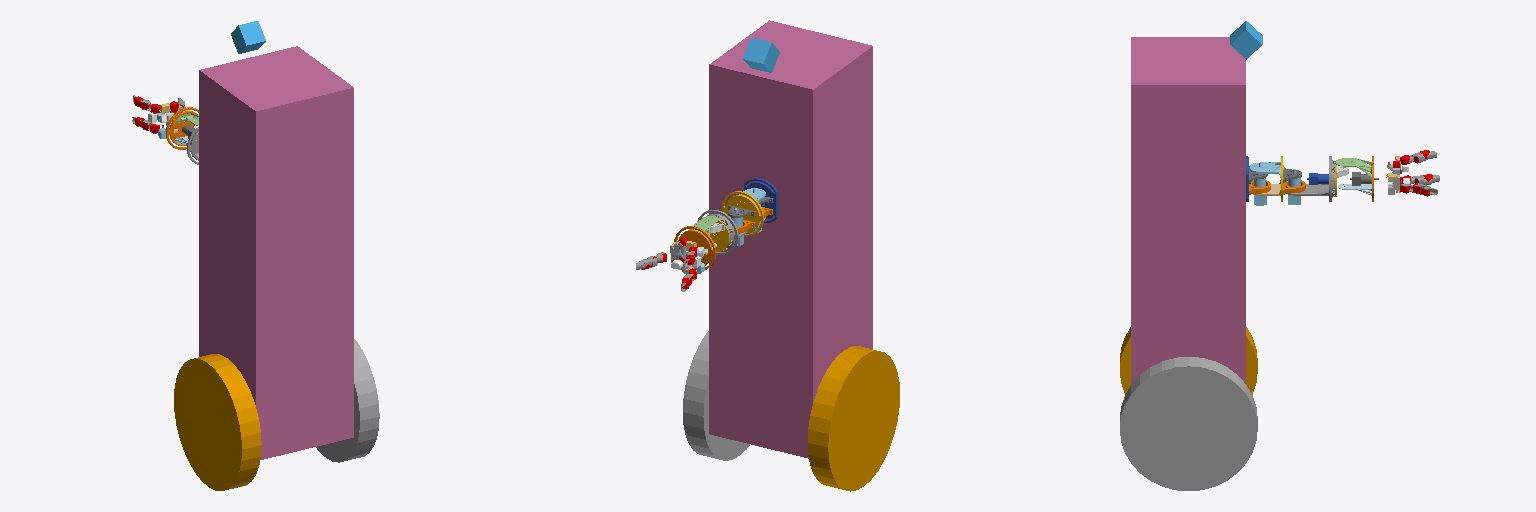
--- Render facts (derived) ---
3 views of the same robot in one strip: view 1: azimuth 30°, elevation 25°; view 2: azimuth 150°, elevation 25°; view 3: azimuth 270°, elevation 25° (orthographic).
Model arm_with_pedestal with 10 links and 9 joints (5 revolute, 3 continuous, 1 fixed), rooted at base_link, posed all joints at 0.
Visible links, largest first — view 1: base_link, left_wheel, right_wheel, main_assembly, forearm_link, camera_link; view 2: base_link, left_wheel, right_wheel, shoulder_link, main_assembly, forearm_link, camera_link, arm1_base_link; view 3: base_link, right_wheel, main_assembly, shoulder_link, left_wheel, forearm_link, arm_link, camera_link, arm1_base_link.
Boxes of the visible links, <box> form: base_link: <box>199,46,353,459</box>; left_wheel: <box>174,354,261,490</box>; right_wheel: <box>316,339,379,462</box>; main_assembly: <box>132,95,188,138</box>; forearm_link: <box>166,107,198,149</box>; camera_link: <box>231,21,265,53</box>; base_link: <box>709,20,872,458</box>; left_wheel: <box>807,346,899,491</box>; right_wheel: <box>683,331,749,460</box>; shoulder_link: <box>722,188,765,245</box>; main_assembly: <box>636,238,704,291</box>; forearm_link: <box>674,216,718,269</box>; camera_link: <box>743,38,779,72</box>; arm1_base_link: <box>744,178,777,232</box>; base_link: <box>1131,37,1245,383</box>; right_wheel: <box>1120,357,1257,490</box>; main_assembly: <box>1386,150,1439,196</box>; shoulder_link: <box>1249,156,1305,204</box>; left_wheel: <box>1120,327,1257,394</box>; forearm_link: <box>1335,156,1378,201</box>; arm_link: <box>1286,156,1335,201</box>; camera_link: <box>1230,21,1262,59</box>; arm1_base_link: <box>1246,156,1270,205</box>.
Bounding box of the posed robot: 0.7 × 1.39 × 2.07 m (x, y, z).
Meshes: 27 distinct files referenced, 73 mesh visuals loaded (26 binary STL); not drawn: 1 (reference not matched to a file when rendering).

The robot description file, URDF, robot "arm_with_pedestal":
<?xml version="1.0" ?>
<!-- =================================================================================== -->
<!-- |    This document was autogenerated by xacro from arm_with_pedestal.xacro        | -->
<!-- |    EDITING THIS FILE BY HAND IS NOT RECOMMENDED                                 | -->
<!-- =================================================================================== -->
<robot name="arm_with_pedestal">
  <link name="arm1_base_link">
    <visual>
      <origin rpy="-1.5708 1.21431e-16 3.90606e-18" xyz="3.31402e-16 -0.0195 0.06"/>
      <geometry>
        <mesh filename="package://ob1_arm_description/meshes/shoulder_y_motor.stl"/>
      </geometry>
      <material name="shoulder_y_motor_material">
        <color rgba="0.615686 0.811765 0.929412 1.0"/>
      </material>
    </visual>
    <collision>
      <origin rpy="-1.5708 1.21431e-16 3.90606e-18" xyz="3.31402e-16 -0.0195 0.06"/>
      <geometry>
        <mesh filename="package://ob1_arm_description/meshes/shoulder_y_motor.stl"/>
      </geometry>
      <material name="shoulder_y_motor_material">
        <color rgba="0.615686 0.811765 0.929412 1.0"/>
      </material>
    </collision>
    <visual>
      <origin rpy="-1.5708 1.2013e-16 2.92997e-21" xyz="1.33481e-16 -0.0195 0.06"/>
      <geometry>
        <mesh filename="package://ob1_arm_description/meshes/shoulder_plate.stl"/>
      </geometry>
      <material name="shoulder_plate_material">
        <color rgba="0.231373 0.380392 0.705882 1.0"/>
      </material>
    </visual>
    <collision>
      <origin rpy="-1.5708 1.2013e-16 2.92997e-21" xyz="1.33481e-16 -0.0195 0.06"/>
      <geometry>
        <mesh filename="package://ob1_arm_description/meshes/shoulder_plate.stl"/>
      </geometry>
      <material name="shoulder_plate_material">
        <color rgba="0.231373 0.380392 0.705882 1.0"/>
      </material>
    </collision>
    <visual>
      <origin rpy="-1.5708 1.20997e-16 7.25353e-18" xyz="3.46418e-16 -0.0195 0.06"/>
      <geometry>
        <mesh filename="package://ob1_arm_description/meshes/motor_front_support_-_shoulder.stl"/>
      </geometry>
      <material name="motor_front_support_-_shoulder_material">
        <color rgba="0.498039 0.498039 0.498039 1.0"/>
      </material>
    </visual>
    <collision>
      <origin rpy="-1.5708 1.20997e-16 7.25353e-18" xyz="3.46418e-16 -0.0195 0.06"/>
      <geometry>
        <mesh filename="package://ob1_arm_description/meshes/motor_front_support_-_shoulder.stl"/>
      </geometry>
      <material name="motor_front_support_-_shoulder_material">
        <color rgba="0.498039 0.498039 0.498039 1.0"/>
      </material>
    </collision>
    <visual>
      <origin rpy="-1.5708 1.20997e-16 7.25353e-18" xyz="-6.0185e-17 -0.0195 0.06"/>
      <geometry>
        <mesh filename="package://ob1_arm_description/meshes/motor_mid_support_-_shoulder.stl"/>
      </geometry>
      <material name="motor_mid_support_-_shoulder_material">
        <color rgba="0.972549 0.529412 0.00392157 1.0"/>
      </material>
    </visual>
    <collision>
      <origin rpy="-1.5708 1.20997e-16 7.25353e-18" xyz="-6.0185e-17 -0.0195 0.06"/>
      <geometry>
        <mesh filename="package://ob1_arm_description/meshes/motor_mid_support_-_shoulder.stl"/>
      </geometry>
      <material name="motor_mid_support_-_shoulder_material">
        <color rgba="0.972549 0.529412 0.00392157 1.0"/>
      </material>
    </collision>
    <inertial>
      <origin rpy="0 0 0" xyz="0 0 0"/>
      <mass value="0"/>
      <inertia ixx="0" ixy="0" ixz="0" iyy="0" iyz="0" izz="0"/>
    </inertial>
  </link>
  <link name="shoulder_link">
    <visual>
      <origin rpy="3.14159 3.60029e-32 -1.5708" xyz="0 0 0.067"/>
      <geometry>
        <mesh filename="package://ob1_arm_description/meshes/shoulder_linkage_-_motor.stl"/>
      </geometry>
      <material name="shoulder_linkage_-_motor_material">
        <color rgba="0.921569 0.8 0.654902 1.0"/>
      </material>
    </visual>
    <collision>
      <origin rpy="3.14159 3.60029e-32 -1.5708" xyz="0 0 0.067"/>
      <geometry>
        <mesh filename="package://ob1_arm_description/meshes/shoulder_linkage_-_motor.stl"/>
      </geometry>
      <material name="shoulder_linkage_-_motor_material">
        <color rgba="0.921569 0.8 0.654902 1.0"/>
      </material>
    </collision>
    <visual>
      <origin rpy="3.14159 7.97526e-16 -1.5708" xyz="-6.03684e-16 -1.84994e-15 0.067"/>
      <geometry>
        <mesh filename="package://ob1_arm_description/meshes/bicep_y_motor.stl"/>
      </geometry>
      <material name="bicep_y_motor_material">
        <color rgba="0.615686 0.811765 0.929412 1.0"/>
      </material>
    </visual>
    <collision>
      <origin rpy="3.14159 7.97526e-16 -1.5708" xyz="-6.03684e-16 -1.84994e-15 0.067"/>
      <geometry>
        <mesh filename="package://ob1_arm_description/meshes/bicep_y_motor.stl"/>
      </geometry>
      <material name="bicep_y_motor_material">
        <color rgba="0.615686 0.811765 0.929412 1.0"/>
      </material>
    </collision>
    <visual>
      <origin rpy="3.14159 -2.30393e-18 -1.5708" xyz="-1.31839e-16 -1.36238e-15 0.067"/>
      <geometry>
        <mesh filename="package://ob1_arm_description/meshes/motor_mid_support_-_bicep.stl"/>
      </geometry>
      <material name="motor_mid_support_-_bicep_material">
        <color rgba="0.972549 0.529412 0.00392157 1.0"/>
      </material>
    </visual>
    <collision>
      <origin rpy="3.14159 -2.30393e-18 -1.5708" xyz="-1.31839e-16 -1.36238e-15 0.067"/>
      <geometry>
        <mesh filename="package://ob1_arm_description/meshes/motor_mid_support_-_bicep.stl"/>
      </geometry>
      <material name="motor_mid_support_-_bicep_material">
        <color rgba="0.972549 0.529412 0.00392157 1.0"/>
      </material>
    </collision>
    <visual>
      <origin rpy="-3.14159 2.79702e-30 -1.5708" xyz="-7.70217e-16 -1.56706e-15 0.067"/>
      <geometry>
        <mesh filename="package://ob1_arm_description/meshes/bicep_plate_-_real.stl"/>
      </geometry>
      <material name="bicep_plate_-_real_material">
        <color rgba="0.980392 0.713725 0.00392157 1.0"/>
      </material>
    </visual>
    <collision>
      <origin rpy="-3.14159 2.79702e-30 -1.5708" xyz="-7.70217e-16 -1.56706e-15 0.067"/>
      <geometry>
        <mesh filename="package://ob1_arm_description/meshes/bicep_plate_-_real.stl"/>
      </geometry>
      <material name="bicep_plate_-_real_material">
        <color rgba="0.980392 0.713725 0.00392157 1.0"/>
      </material>
    </collision>
    <visual>
      <origin rpy="3.14159 3.86179e-16 -1.5708" xyz="-2.42861e-16 -2.01669e-15 0.067"/>
      <geometry>
        <mesh filename="package://ob1_arm_description/meshes/shoulder_linkage_-_encoder.stl"/>
      </geometry>
      <material name="shoulder_linkage_-_encoder_material">
        <color rgba="0.615686 0.811765 0.929412 1.0"/>
      </material>
    </visual>
    <collision>
      <origin rpy="3.14159 3.86179e-16 -1.5708" xyz="-2.42861e-16 -2.01669e-15 0.067"/>
      <geometry>
        <mesh filename="package://ob1_arm_description/meshes/shoulder_linkage_-_encoder.stl"/>
      </geometry>
      <material name="shoulder_linkage_-_encoder_material">
        <color rgba="0.615686 0.811765 0.929412 1.0"/>
      </material>
    </collision>
    <visual>
      <origin rpy="3.14159 2.23806e-16 -1.5708" xyz="-2.70617e-16 -1.98014e-15 0.067"/>
      <geometry>
        <mesh filename="package://ob1_arm_description/meshes/motor_front_support_-_bicep.stl"/>
      </geometry>
      <material name="motor_front_support_-_bicep_material">
        <color rgba="0.498039 0.498039 0.498039 1.0"/>
      </material>
    </visual>
    <collision>
      <origin rpy="3.14159 2.23806e-16 -1.5708" xyz="-2.70617e-16 -1.98014e-15 0.067"/>
      <geometry>
        <mesh filename="package://ob1_arm_description/meshes/motor_front_support_-_bicep.stl"/>
      </geometry>
      <material name="motor_front_support_-_bicep_material">
        <color rgba="0.498039 0.498039 0.498039 1.0"/>
      </material>
    </collision>
    <inertial>
      <origin rpy="0 0 0" xyz="0 0 0"/>
      <mass value="0"/>
      <inertia ixx="0" ixy="0" ixz="0" iyy="0" iyz="0" izz="0"/>
    </inertial>
  </link>
  <link name="arm_link">
    <visual>
      <origin rpy="3.14159 0.0295346 -7.29078e-16" xyz="0.000575841 -1.05471e-15 0.0669915"/>
      <geometry>
        <mesh filename="package://ob1_arm_description/meshes/forearm_z_motor_shaft_collar_-_9604t12_flange-mount_shaft_collar.stl"/>
      </geometry>
      <material name="forearm_z_motor_shaft_collar_-_9604t12_flange-mount_shaft_collar_material">
        <color rgba="0.498039 0.498039 0.498039 1.0"/>
      </material>
    </visual>
    <collision>
      <origin rpy="3.14159 0.0295346 -7.29078e-16" xyz="0.000575841 -1.05471e-15 0.0669915"/>
      <geometry>
        <mesh filename="package://ob1_arm_description/meshes/forearm_z_motor_shaft_collar_-_9604t12_flange-mount_shaft_collar.stl"/>
      </geometry>
      <material name="forearm_z_motor_shaft_collar_-_9604t12_flange-mount_shaft_collar_material">
        <color rgba="0.498039 0.498039 0.498039 1.0"/>
      </material>
    </collision>
    <visual>
      <origin rpy="3.14159 -4.40079e-18 -5.04871e-29" xyz="-9.25466e-16 1.55431e-15 0.067"/>
      <geometry>
        <mesh filename="package://ob1_arm_description/meshes/bicep_z_motor.stl"/>
      </geometry>
      <material name="bicep_z_motor_material">
        <color rgba="0.231373 0.380392 0.705882 1.0"/>
      </material>
    </visual>
    <collision>
      <origin rpy="3.14159 -4.40079e-18 -5.04871e-29" xyz="-9.25466e-16 1.55431e-15 0.067"/>
      <geometry>
        <mesh filename="package://ob1_arm_description/meshes/bicep_z_motor.stl"/>
      </geometry>
      <material name="bicep_z_motor_material">
        <color rgba="0.231373 0.380392 0.705882 1.0"/>
      </material>
    </collision>
    <visual>
      <origin rpy="3.14159 -2.72597e-18 4.33681e-19" xyz="-9.99424e-16 -1.66533e-16 0.067"/>
      <geometry>
        <mesh filename="package://ob1_arm_description/meshes/bicep_linkage_-_encoder.stl"/>
      </geometry>
      <material name="bicep_linkage_-_encoder_material">
        <color rgba="0.768627 0.886275 0.952941 1.0"/>
      </material>
    </visual>
    <collision>
      <origin rpy="3.14159 -2.72597e-18 4.33681e-19" xyz="-9.99424e-16 -1.66533e-16 0.067"/>
      <geometry>
        <mesh filename="package://ob1_arm_description/meshes/bicep_linkage_-_encoder.stl"/>
      </geometry>
      <material name="bicep_linkage_-_encoder_material">
        <color rgba="0.768627 0.886275 0.952941 1.0"/>
      </material>
    </collision>
    <visual>
      <origin rpy="3.14159 4.93271e-31 0" xyz="7.88861e-30 2.77556e-17 0.067"/>
      <geometry>
        <mesh filename="package://ob1_arm_description/meshes/bicep_linkage_-_motor.stl"/>
      </geometry>
      <material name="bicep_linkage_-_motor_material">
        <color rgba="0.647059 0.647059 0.647059 1.0"/>
      </material>
    </visual>
    <collision>
      <origin rpy="3.14159 4.93271e-31 0" xyz="7.88861e-30 2.77556e-17 0.067"/>
      <geometry>
        <mesh filename="package://ob1_arm_description/meshes/bicep_linkage_-_motor.stl"/>
      </geometry>
      <material name="bicep_linkage_-_motor_material">
        <color rgba="0.647059 0.647059 0.647059 1.0"/>
      </material>
    </collision>
    <visual>
      <origin rpy="3.14159 -3.17094e-18 -2.52435e-29" xyz="-8.25064e-16 1.05471e-15 0.067"/>
      <geometry>
        <mesh filename="package://ob1_arm_description/meshes/forearm_plate.stl"/>
      </geometry>
      <material name="forearm_plate_material">
        <color rgba="0.647059 0.647059 0.647059 1.0"/>
      </material>
    </visual>
    <collision>
      <origin rpy="3.14159 -3.17094e-18 -2.52435e-29" xyz="-8.25064e-16 1.05471e-15 0.067"/>
      <geometry>
        <mesh filename="package://ob1_arm_description/meshes/forearm_plate.stl"/>
      </geometry>
      <material name="forearm_plate_material">
        <color rgba="0.647059 0.647059 0.647059 1.0"/>
      </material>
    </collision>
    <inertial>
      <origin rpy="0 0 0" xyz="0 0 0"/>
      <mass value="0"/>
      <inertia ixx="0" ixy="0" ixz="0" iyy="0" iyz="0" izz="0"/>
    </inertial>
  </link>
  <link name="elbow_link">
    <visual>
      <origin rpy="1.5708 2.52435e-29 -3.46945e-18" xyz="-4.05204e-16 0.0195 0.18"/>
      <geometry>
        <mesh filename="package://ob1_arm_description/meshes/forearm_motor_support.stl"/>
      </geometry>
      <material name="forearm_motor_support_material">
        <color rgba="0.917647 0.917647 0.917647 1.0"/>
      </material>
    </visual>
    <collision>
      <origin rpy="1.5708 2.52435e-29 -3.46945e-18" xyz="-4.05204e-16 0.0195 0.18"/>
      <geometry>
        <mesh filename="package://ob1_arm_description/meshes/forearm_motor_support.stl"/>
      </geometry>
      <material name="forearm_motor_support_material">
        <color rgba="0.917647 0.917647 0.917647 1.0"/>
      </material>
    </collision>
    <visual>
      <origin rpy="1.5708 2.52435e-29 3.23731e-28" xyz="-1.25056e-17 0.0195 0.18"/>
      <geometry>
        <mesh filename="package://ob1_arm_description/meshes/forearm_intermediate_plate.stl"/>
      </geometry>
      <material name="forearm_intermediate_plate_material">
        <color rgba="0.980392 0.713725 0.00392157 1.0"/>
      </material>
    </visual>
    <collision>
      <origin rpy="1.5708 2.52435e-29 3.23731e-28" xyz="-1.25056e-17 0.0195 0.18"/>
      <geometry>
        <mesh filename="package://ob1_arm_description/meshes/forearm_intermediate_plate.stl"/>
      </geometry>
      <material name="forearm_intermediate_plate_material">
        <color rgba="0.980392 0.713725 0.00392157 1.0"/>
      </material>
    </collision>
    <visual>
      <origin rpy="1.5708 2.52435e-29 -6.93889e-18" xyz="-6.05219e-16 0.05285 -0.03115"/>
      <geometry>
        <mesh filename="package://ob1_arm_description/meshes/part_1.stl"/>
      </geometry>
      <material name="part_1_material">
        <color rgba="0.615686 0.811765 0.929412 1.0"/>
      </material>
    </visual>
    <collision>
      <origin rpy="1.5708 2.52435e-29 -6.93889e-18" xyz="-6.05219e-16 0.05285 -0.03115"/>
      <geometry>
        <mesh filename="package://ob1_arm_description/meshes/part_1.stl"/>
      </geometry>
      <material name="part_1_material">
        <color rgba="0.615686 0.811765 0.929412 1.0"/>
      </material>
    </collision>
    <inertial>
      <origin rpy="0 0 0" xyz="0 0 0"/>
      <mass value="0"/>
      <inertia ixx="0" ixy="0" ixz="0" iyy="0" iyz="0" izz="0"/>
    </inertial>
  </link>
  <link name="forearm_link">
    <visual>
      <origin rpy="7.88861e-31 -6.93889e-18 4.33681e-19" xyz="-5.02684e-16 0.21115 0.06335"/>
      <geometry>
        <mesh filename="package://ob1_arm_description/meshes/end_effector_plate.stl"/>
      </geometry>
      <material name="end_effector_plate_material">
        <color rgba="0.972549 0.529412 0.00392157 1.0"/>
      </material>
    </visual>
    <collision>
      <origin rpy="7.88861e-31 -6.93889e-18 4.33681e-19" xyz="-5.02684e-16 0.21115 0.06335"/>
      <geometry>
        <mesh filename="package://ob1_arm_description/meshes/end_effector_plate.stl"/>
      </geometry>
      <material name="end_effector_plate_material">
        <color rgba="0.972549 0.529412 0.00392157 1.0"/>
      </material>
    </collision>
    <visual>
      <origin rpy="3.15544e-30 1.08247e-15 3.90313e-18" xyz="-2.79121e-16 0.21115 0.06335"/>
      <geometry>
        <mesh filename="package://ob1_arm_description/meshes/forearm_linkage_-_encoder.stl"/>
      </geometry>
      <material name="forearm_linkage_-_encoder_material">
        <color rgba="0.768627 0.886275 0.952941 1.0"/>
      </material>
    </visual>
    <collision>
      <origin rpy="3.15544e-30 1.08247e-15 3.90313e-18" xyz="-2.79121e-16 0.21115 0.06335"/>
      <geometry>
        <mesh filename="package://ob1_arm_description/meshes/forearm_linkage_-_encoder.stl"/>
      </geometry>
      <material name="forearm_linkage_-_encoder_material">
        <color rgba="0.768627 0.886275 0.952941 1.0"/>
      </material>
    </collision>
    <visual>
      <origin rpy="7.88861e-31 -3.46945e-18 2.52435e-29" xyz="-1.00221e-17 0.21115 0.06335"/>
      <geometry>
        <mesh filename="package://ob1_arm_description/meshes/forearm_linkage_-_motor.stl"/>
      </geometry>
      <material name="forearm_linkage_-_motor_material">
        <color rgba="0.654902 0.823529 0.576471 1.0"/>
      </material>
    </visual>
    <collision>
      <origin rpy="7.88861e-31 -3.46945e-18 2.52435e-29" xyz="-1.00221e-17 0.21115 0.06335"/>
      <geometry>
        <mesh filename="package://ob1_arm_description/meshes/forearm_linkage_-_motor.stl"/>
      </geometry>
      <material name="forearm_linkage_-_motor_material">
        <color rgba="0.654902 0.823529 0.576471 1.0"/>
      </material>
    </collision>
    <visual>
      <origin rpy="1.57772e-30 1.07553e-15 3.90313e-18" xyz="-5.17754e-16 0.21115 0.06335"/>
      <geometry>
        <mesh filename="package://ob1_arm_description/meshes/wrist_z_motor.stl"/>
      </geometry>
      <material name="wrist_z_motor_material">
        <color rgba="0.498039 0.498039 0.498039 1.0"/>
      </material>
    </visual>
    <collision>
      <origin rpy="1.57772e-30 1.07553e-15 3.90313e-18" xyz="-5.17754e-16 0.21115 0.06335"/>
      <geometry>
        <mesh filename="package://ob1_arm_description/meshes/wrist_z_motor.stl"/>
      </geometry>
      <material name="wrist_z_motor_material">
        <color rgba="0.498039 0.498039 0.498039 1.0"/>
      </material>
    </collision>
    <inertial>
      <origin rpy="0 0 0" xyz="0 0 0"/>
      <mass value="0"/>
      <inertia ixx="0" ixy="0" ixz="0" iyy="0" iyz="0" izz="0"/>
    </inertial>
  </link>
  <link name="main_assembly">
    <visual>
      <origin rpy="-1.45249 0.81946 0.0866409" xyz="-0.0645733 -0.0670487 0.129369"/>
      <geometry>
        <mesh filename="package://ob1_arm_description/meshes/part_1.stl"/>
      </geometry>
      <material name="part_1_material">
        <color rgba="1 0 0 1.0"/>
      </material>
    </visual>
    <collision>
      <origin rpy="-1.45249 0.81946 0.0866409" xyz="-0.0645733 -0.0670487 0.129369"/>
      <geometry>
        <mesh filename="package://ob1_arm_description/meshes/part_1.stl"/>
      </geometry>
      <material name="part_1_material">
        <color rgba="1 0 0 1.0"/>
      </material>
    </collision>
    <visual>
      <origin rpy="-1.60498 1.07372 -0.0300488" xyz="-0.0793646 0.0346641 0.226122"/>
      <geometry>
        <mesh filename="package://ob1_arm_description/meshes/part_1.stl"/>
      </geometry>
      <material name="part_1_material">
        <color rgba="1 0 0 1.0"/>
      </material>
    </visual>
    <collision>
      <origin rpy="-1.60498 1.07372 -0.0300488" xyz="-0.0793646 0.0346641 0.226122"/>
      <geometry>
        <mesh filename="package://ob1_arm_description/meshes/part_1.stl"/>
      </geometry>
      <material name="part_1_material">
        <color rgba="1 0 0 1.0"/>
      </material>
    </collision>
    <visual>
      <origin rpy="-1.45249 0.81946 0.0866409" xyz="-0.0645733 -0.0670487 0.129369"/>
      <geometry>
        <mesh filename="package://ob1_arm_description/meshes/part_2.stl"/>
      </geometry>
      <material name="part_2_material">
        <color rgba="0.647059 0.647059 0.647059 1.0"/>
      </material>
    </visual>
    <collision>
      <origin rpy="-1.45249 0.81946 0.0866409" xyz="-0.0645733 -0.0670487 0.129369"/>
      <geometry>
        <mesh filename="package://ob1_arm_description/meshes/part_2.stl"/>
      </geometry>
      <material name="part_2_material">
        <color rgba="0.647059 0.647059 0.647059 1.0"/>
      </material>
    </collision>
    <visual>
      <origin rpy="-2.11035e-16 -0.0162981 -1.5708" xyz="-0.0185543 0.0183829 0.0681824"/>
      <geometry>
        <mesh filename="package://ob1_arm_description/meshes/part_1.stl"/>
      </geometry>
      <material name="part_1_material">
        <color rgba="1 0 0 1.0"/>
      </material>
    </visual>
    <collision>
      <origin rpy="-2.11035e-16 -0.0162981 -1.5708" xyz="-0.0185543 0.0183829 0.0681824"/>
      <geometry>
        <mesh filename="package://ob1_arm_description/meshes/part_1.stl"/>
      </geometry>
      <material name="part_1_material">
        <color rgba="1 0 0 1.0"/>
      </material>
    </collision>
    <visual>
      <origin rpy="-1.5708 0.989151 -3.14159" xyz="0.0988562 0.014795 0.216292"/>
      <geometry>
        <mesh filename="package://ob1_arm_description/meshes/part_1.stl"/>
      </geometry>
      <material name="part_1_material">
        <color rgba="1 0 0 1.0"/>
      </material>
    </visual>
    <collision>
      <origin rpy="-1.5708 0.989151 -3.14159" xyz="0.0988562 0.014795 0.216292"/>
      <geometry>
        <mesh filename="package://ob1_arm_description/meshes/part_1.stl"/>
      </geometry>
      <material name="part_1_material">
        <color rgba="1 0 0 1.0"/>
      </material>
    </collision>
    <visual>
      <origin rpy="-1.60498 1.07372 -0.0300488" xyz="-0.0793646 0.0346641 0.226122"/>
      <geometry>
        <mesh filename="package://ob1_arm_description/meshes/part_2.stl"/>
      </geometry>
      <material name="part_2_material">
        <color rgba="0.647059 0.647059 0.647059 1.0"/>
      </material>
    </visual>
    <collision>
      <origin rpy="-1.60498 1.07372 -0.0300488" xyz="-0.0793646 0.0346641 0.226122"/>
      <geometry>
        <mesh filename="package://ob1_arm_description/meshes/part_2.stl"/>
      </geometry>
      <material name="part_2_material">
        <color rgba="0.647059 0.647059 0.647059 1.0"/>
      </material>
    </collision>
    <visual>
      <origin rpy="-1.42635 0.976747 0.119958" xyz="-0.0830985 -0.0669066 0.183302"/>
      <geometry>
        <mesh filename="package://ob1_arm_description/meshes/part_4.stl"/>
      </geometry>
      <material name="part_4_material">
        <color rgba="0.647059 0.647059 0.647059 1.0"/>
      </material>
    </visual>
    <collision>
      <origin rpy="-1.42635 0.976747 0.119958" xyz="-0.0830985 -0.0669066 0.183302"/>
      <geometry>
        <mesh filename="package://ob1_arm_description/meshes/part_4.stl"/>
      </geometry>
      <material name="part_4_material">
        <color rgba="0.647059 0.647059 0.647059 1.0"/>
      </material>
    </collision>
    <visual>
      <origin rpy="-1.42635 0.976747 0.119958" xyz="-0.0830985 -0.0669066 0.183302"/>
      <geometry>
        <mesh filename="package://ob1_arm_description/meshes/part_2.stl"/>
      </geometry>
      <material name="part_2_material">
        <color rgba="0.647059 0.647059 0.647059 1.0"/>
      </material>
    </visual>
    <collision>
      <origin rpy="-1.42635 0.976747 0.119958" xyz="-0.0830985 -0.0669066 0.183302"/>
      <geometry>
        <mesh filename="package://ob1_arm_description/meshes/part_2.stl"/>
      </geometry>
      <material name="part_2_material">
        <color rgba="0.647059 0.647059 0.647059 1.0"/>
      </material>
    </collision>
    <visual>
      <origin rpy="-6.72446e-29 -0.721528 1.5708" xyz="0.0086322 0.03835 0.066"/>
      <geometry>
        <mesh filename="package://ob1_arm_description/meshes/535198.stl"/>
      </geometry>
      <material name="535198_material">
        <color rgba="0.498039 0.498039 0.498039 1.0"/>
      </material>
    </visual>
    <collision>
      <origin rpy="-6.72446e-29 -0.721528 1.5708" xyz="0.0086322 0.03835 0.066"/>
      <geometry>
        <mesh filename="package://ob1_arm_description/meshes/535198.stl"/>
      </geometry>
      <material name="535198_material">
        <color rgba="0.498039 0.498039 0.498039 1.0"/>
      </material>
    </collision>
    <visual>
      <origin rpy="-1.42635 0.976747 0.119958" xyz="-0.0830985 -0.0669066 0.183302"/>
      <geometry>
        <mesh filename="package://ob1_arm_description/meshes/part_3.stl"/>
      </geometry>
      <material name="part_3_material">
        <color rgba="0.647059 0.647059 0.647059 1.0"/>
      </material>
    </visual>
    <collision>
      <origin rpy="-1.42635 0.976747 0.119958" xyz="-0.0830985 -0.0669066 0.183302"/>
      <geometry>
        <mesh filename="package://ob1_arm_description/meshes/part_3.stl"/>
      </geometry>
      <material name="part_3_material">
        <color rgba="0.647059 0.647059 0.647059 1.0"/>
      </material>
    </collision>
    <visual>
      <origin rpy="-2.20158e-16 -0.0162981 -1.5708" xyz="-0.0185543 0.0183829 0.0681824"/>
      <geometry>
        <mesh filename="package://ob1_arm_description/meshes/part_2.stl"/>
      </geometry>
      <material name="part_2_material">
        <color rgba="0.647059 0.647059 0.647059 1.0"/>
      </material>
    </visual>
    <collision>
      <origin rpy="-2.20158e-16 -0.0162981 -1.5708" xyz="-0.0185543 0.0183829 0.0681824"/>
      <geometry>
        <mesh filename="package://ob1_arm_description/meshes/part_2.stl"/>
      </geometry>
      <material name="part_2_material">
        <color rgba="0.647059 0.647059 0.647059 1.0"/>
      </material>
    </collision>
    <visual>
      <origin rpy="-3.66048e-16 0.00035012 -1.5708" xyz="-0.0374924 -0.01435 0.066"/>
      <geometry>
        <mesh filename="package://ob1_arm_description/meshes/part_1.stl"/>
      </geometry>
      <material name="part_1_material">
        <color rgba="0.956863 0.956863 0.956863 1.0"/>
      </material>
    </visual>
    <collision>
      <origin rpy="-3.66048e-16 0.00035012 -1.5708" xyz="-0.0374924 -0.01435 0.066"/>
      <geometry>
        <mesh filename="package://ob1_arm_description/meshes/part_1.stl"/>
      </geometry>
      <material name="part_1_material">
        <color rgba="0.956863 0.956863 0.956863 1.0"/>
      </material>
    </collision>
    <visual>
      <origin rpy="-1.42635 0.976747 0.119958" xyz="-0.0830985 -0.0669066 0.183302"/>
      <geometry>
        <mesh filename="package://ob1_arm_description/meshes/part_1.stl"/>
      </geometry>
      <material name="part_1_material">
        <color rgba="1 0 0 1.0"/>
      </material>
    </visual>
    <collision>
      <origin rpy="-1.42635 0.976747 0.119958" xyz="-0.0830985 -0.0669066 0.183302"/>
      <geometry>
        <mesh filename="package://ob1_arm_description/meshes/part_1.stl"/>
      </geometry>
      <material name="part_1_material">
        <color rgba="1 0 0 1.0"/>
      </material>
    </collision>
    <visual>
      <origin rpy="-3.14159 -0.620674 1.5708" xyz="-0.0652464 -0.01435 0.066"/>
      <geometry>
        <mesh filename="package://ob1_arm_description/meshes/535198.stl"/>
      </geometry>
      <material name="535198_material">
        <color rgba="0.498039 0.498039 0.498039 1.0"/>
      </material>
    </visual>
    <collision>
      <origin rpy="-3.14159 -0.620674 1.5708" xyz="-0.0652464 -0.01435 0.066"/>
      <geometry>
        <mesh filename="package://ob1_arm_description/meshes/535198.stl"/>
      </geometry>
      <material name="535198_material">
        <color rgba="0.498039 0.498039 0.498039 1.0"/>
      </material>
    </collision>
    <visual>
      <origin rpy="-1.5708 1.08095 -3.14159" xyz="0.0805058 0.0105131 0.182183"/>
      <geometry>
        <mesh filename="package://ob1_arm_description/meshes/part_3.stl"/>
      </geometry>
      <material name="part_3_material">
        <color rgba="0.647059 0.647059 0.647059 1.0"/>
      </material>
    </visual>
    <collision>
      <origin rpy="-1.5708 1.08095 -3.14159" xyz="0.0805058 0.0105131 0.182183"/>
      <geometry>
        <mesh filename="package://ob1_arm_description/meshes/part_3.stl"/>
      </geometry>
      <material name="part_3_material">
        <color rgba="0.647059 0.647059 0.647059 1.0"/>
      </material>
    </collision>
    <visual>
      <origin rpy="-1.5708 1.03648 -3.14159" xyz="0.0693757 0.015 0.124684"/>
      <geometry>
        <mesh filename="package://ob1_arm_description/meshes/part_1.stl"/>
      </geometry>
      <material name="part_1_material">
        <color rgba="1 0 0 1.0"/>
      </material>
    </visual>
    <collision>
      <origin rpy="-1.5708 1.03648 -3.14159" xyz="0.0693757 0.015 0.124684"/>
      <geometry>
        <mesh filename="package://ob1_arm_description/meshes/part_1.stl"/>
      </geometry>
      <material name="part_1_material">
        <color rgba="1 0 0 1.0"/>
      </material>
    </collision>
    <visual>
      <origin rpy="-1.62774 1.28037 -0.0545632" xyz="-0.0654451 0.0383085 0.186979"/>
      <geometry>
        <mesh filename="package://ob1_arm_description/meshes/part_4.stl"/>
      </geometry>
      <material name="part_4_material">
        <color rgba="0.647059 0.647059 0.647059 1.0"/>
      </material>
    </visual>
    <collision>
      <origin rpy="-1.62774 1.28037 -0.0545632" xyz="-0.0654451 0.0383085 0.186979"/>
      <geometry>
        <mesh filename="package://ob1_arm_description/meshes/part_4.stl"/>
      </geometry>
      <material name="part_4_material">
        <color rgba="0.647059 0.647059 0.647059 1.0"/>
      </material>
    </collision>
    <visual>
      <origin rpy="-4.86248e-16 1.1544e-15 -1.5708" xyz="0.0212271 -0.01435 0.066"/>
      <geometry>
        <mesh filename="package://ob1_arm_description/meshes/part_1.stl"/>
      </geometry>
      <material name="part_1_material">
        <color rgba="0.752941 0.752941 0.752941 1.0"/>
      </material>
    </visual>
    <collision>
      <origin rpy="-4.86248e-16 1.1544e-15 -1.5708" xyz="0.0212271 -0.01435 0.066"/>
      <geometry>
        <mesh filename="package://ob1_arm_description/meshes/part_1.stl"/>
      </geometry>
      <material name="part_1_material">
        <color rgba="0.752941 0.752941 0.752941 1.0"/>
      </material>
    </collision>
    <visual>
      <origin rpy="-4.86248e-16 1.62622e-15 -1.5708" xyz="0.0212271 0.01435 0.066"/>
      <geometry>
        <mesh filename="package://ob1_arm_description/meshes/part_1.stl"/>
      </geometry>
      <material name="part_1_material">
        <color rgba="0.752941 0.752941 0.752941 1.0"/>
      </material>
    </visual>
    <collision>
      <origin rpy="-4.86248e-16 1.62622e-15 -1.5708" xyz="0.0212271 0.01435 0.066"/>
      <geometry>
        <mesh filename="package://ob1_arm_description/meshes/part_1.stl"/>
      </geometry>
      <material name="part_1_material">
        <color rgba="0.752941 0.752941 0.752941 1.0"/>
      </material>
    </collision>
    <visual>
      <origin rpy="2.86009e-15 -2.08053e-15 1.5708" xyz="-0.07 -0.017 0.106"/>
      <geometry>
        <mesh filename="package://ob1_arm_description/meshes/part_1.stl"/>
      </geometry>
      <material name="part_1_material">
        <color rgba="1 1 1 1.0"/>
      </material>
    </visual>
    <collision>
      <origin rpy="2.86009e-15 -2.08053e-15 1.5708" xyz="-0.07 -0.017 0.106"/>
      <geometry>
        <mesh filename="package://ob1_arm_description/meshes/part_1.stl"/>
      </geometry>
      <material name="part_1_material">
        <color rgba="1 1 1 1.0"/>
      </material>
    </collision>
    <visual>
      <origin rpy="-3.14159 1.23853 -1.5708" xyz="-0.0551218 -0.03835 0.066"/>
      <geometry>
        <mesh filename="package://ob1_arm_description/meshes/part_1.stl"/>
      </geometry>
      <material name="part_1_material">
        <color rgba="0.956863 0.956863 0.956863 1.0"/>
      </material>
    </visual>
    <collision>
      <origin rpy="-3.14159 1.23853 -1.5708" xyz="-0.0551218 -0.03835 0.066"/>
      <geometry>
        <mesh filename="package://ob1_arm_description/meshes/part_1.stl"/>
      </geometry>
      <material name="part_1_material">
        <color rgba="0.956863 0.956863 0.956863 1.0"/>
      </material>
    </collision>
    <visual>
      <origin rpy="-2.42292e-15 1.75326e-15 -1.5708" xyz="0.00410186 0.01435 0.066"/>
      <geometry>
        <mesh filename="package://ob1_arm_description/meshes/part_1.stl"/>
      </geometry>
      <material name="part_1_material">
        <color rgba="0.752941 0.752941 0.752941 1.0"/>
      </material>
    </visual>
    <collision>
      <origin rpy="-2.42292e-15 1.75326e-15 -1.5708" xyz="0.00410186 0.01435 0.066"/>
      <geometry>
        <mesh filename="package://ob1_arm_description/meshes/part_1.stl"/>
      </geometry>
      <material name="part_1_material">
        <color rgba="0.752941 0.752941 0.752941 1.0"/>
      </material>
    </collision>
    <visual>
      <origin rpy="-1.59935 0.963201 -0.0234431" xyz="-0.060658 0.0329427 0.133091"/>
      <geometry>
        <mesh filename="package://ob1_arm_description/meshes/part_1.stl"/>
      </geometry>
      <material name="part_1_material">
        <color rgba="1 0 0 1.0"/>
      </material>
    </visual>
    <collision>
      <origin rpy="-1.59935 0.963201 -0.0234431" xyz="-0.060658 0.0329427 0.133091"/>
      <geometry>
        <mesh filename="package://ob1_arm_description/meshes/part_1.stl"/>
      </geometry>
      <material name="part_1_material">
        <color rgba="1 0 0 1.0"/>
      </material>
    </collision>
    <visual>
      <origin rpy="3.14159 7.25258e-05 -1.5708" xyz="0.0086322 0.01435 0.066"/>
      <geometry>
        <mesh filename="package://ob1_arm_description/meshes/535198.stl"/>
      </geometry>
      <material name="535198_material">
        <color rgba="0.498039 0.498039 0.498039 1.0"/>
      </material>
    </visual>
    <collision>
      <origin rpy="3.14159 7.25258e-05 -1.5708" xyz="0.0086322 0.01435 0.066"/>
      <geometry>
        <mesh filename="package://ob1_arm_description/meshes/535198.stl"/>
      </geometry>
      <material name="535198_material">
        <color rgba="0.498039 0.498039 0.498039 1.0"/>
      </material>
    </collision>
    <visual>
      <origin rpy="-1.5708 1.03648 -3.14159" xyz="0.0693757 0.015 0.124684"/>
      <geometry>
        <mesh filename="package://ob1_arm_description/meshes/part_2.stl"/>
      </geometry>
      <material name="part_2_material">
        <color rgba="0.647059 0.647059 0.647059 1.0"/>
      </material>
    </visual>
    <collision>
      <origin rpy="-1.5708 1.03648 -3.14159" xyz="0.0693757 0.015 0.124684"/>
      <geometry>
        <mesh filename="package://ob1_arm_description/meshes/part_2.stl"/>
      </geometry>
      <material name="part_2_material">
        <color rgba="0.647059 0.647059 0.647059 1.0"/>
      </material>
    </collision>
    <visual>
      <origin rpy="-4.89117e-16 -2.04438e-15 -1.5708" xyz="0.00410186 -0.03835 0.066"/>
      <geometry>
        <mesh filename="package://ob1_arm_description/meshes/part_1.stl"/>
      </geometry>
      <material name="part_1_material">
        <color rgba="0.752941 0.752941 0.752941 1.0"/>
      </material>
    </visual>
    <collision>
      <origin rpy="-4.89117e-16 -2.04438e-15 -1.5708" xyz="0.00410186 -0.03835 0.066"/>
      <geometry>
        <mesh filename="package://ob1_arm_description/meshes/part_1.stl"/>
      </geometry>
      <material name="part_1_material">
        <color rgba="0.752941 0.752941 0.752941 1.0"/>
      </material>
    </collision>
    <visual>
      <origin rpy="-1.5708 -1.5708 0" xyz="-0.085 -0.03835 0.066"/>
      <geometry>
        <mesh filename="package://ob1_arm_description/meshes/part_1.stl"/>
      </geometry>
      <material name="part_1_material">
        <color rgba="0.615686 0.811765 0.929412 1.0"/>
      </material>
    </visual>
    <collision>
      <origin rpy="-1.5708 -1.5708 0" xyz="-0.085 -0.03835 0.066"/>
      <geometry>
        <mesh filename="package://ob1_arm_description/meshes/part_1.stl"/>
      </geometry>
      <material name="part_1_material">
        <color rgba="0.615686 0.811765 0.929412 1.0"/>
      </material>
    </collision>
    <visual>
      <origin rpy="-3.14159 -7.80068e-16 1.5708" xyz="0.00410186 0.03835 0.066"/>
      <geometry>
        <mesh filename="package://ob1_arm_description/meshes/part_1.stl"/>
      </geometry>
      <material name="part_1_material">
        <color rgba="0.752941 0.752941 0.752941 1.0"/>
      </material>
    </visual>
    <collision>
      <origin rpy="-3.14159 -7.80068e-16 1.5708" xyz="0.00410186 0.03835 0.066"/>
      <geometry>
        <mesh filename="package://ob1_arm_description/meshes/part_1.stl"/>
      </geometry>
      <material name="part_1_material">
        <color rgba="0.752941 0.752941 0.752941 1.0"/>
      </material>
    </collision>
    <visual>
      <origin rpy="0.0116274 1.49014 1.5708" xyz="-0.0350421 -0.0416396 0.0847098"/>
      <geometry>
        <mesh filename="package://ob1_arm_description/meshes/hk15328d_v5.stl"/>
      </geometry>
      <material name="hk15328d_v5_material">
        <color rgba="0.952941 0.796078 0.486275 1.0"/>
      </material>
    </visual>
    <collision>
      <origin rpy="0.0116274 1.49014 1.5708" xyz="-0.0350421 -0.0416396 0.0847098"/>
      <geometry>
        <mesh filename="package://ob1_arm_description/meshes/hk15328d_v5.stl"/>
      </geometry>
      <material name="hk15328d_v5_material">
        <color rgba="0.952941 0.796078 0.486275 1.0"/>
      </material>
    </collision>
    <visual>
      <origin rpy="-4.89117e-16 -1.99653e-15 -1.5708" xyz="0.00410186 -0.01435 0.066"/>
      <geometry>
        <mesh filename="package://ob1_arm_description/meshes/part_1.stl"/>
      </geometry>
      <material name="part_1_material">
        <color rgba="0.752941 0.752941 0.752941 1.0"/>
      </material>
    </visual>
    <collision>
      <origin rpy="-4.89117e-16 -1.99653e-15 -1.5708" xyz="0.00410186 -0.01435 0.066"/>
      <geometry>
        <mesh filename="package://ob1_arm_description/meshes/part_1.stl"/>
      </geometry>
      <material name="part_1_material">
        <color rgba="0.752941 0.752941 0.752941 1.0"/>
      </material>
    </collision>
    <visual>
      <origin rpy="-1.62774 1.28037 -0.0545632" xyz="-0.0654451 0.0383085 0.186979"/>
      <geometry>
        <mesh filename="package://ob1_arm_description/meshes/part_2.stl"/>
      </geometry>
      <material name="part_2_material">
        <color rgba="0.647059 0.647059 0.647059 1.0"/>
      </material>
    </visual>
    <collision>
      <origin rpy="-1.62774 1.28037 -0.0545632" xyz="-0.0654451 0.0383085 0.186979"/>
      <geometry>
        <mesh filename="package://ob1_arm_description/meshes/part_2.stl"/>
      </geometry>
      <material name="part_2_material">
        <color rgba="0.647059 0.647059 0.647059 1.0"/>
      </material>
    </collision>
    <visual>
      <origin rpy="-1.62774 1.28037 -0.0545632" xyz="-0.0654451 0.0383085 0.186979"/>
      <geometry>
        <mesh filename="package://ob1_arm_description/meshes/part_3.stl"/>
      </geometry>
      <material name="part_3_material">
        <color rgba="0.647059 0.647059 0.647059 1.0"/>
      </material>
    </visual>
    <collision>
      <origin rpy="-1.62774 1.28037 -0.0545632" xyz="-0.0654451 0.0383085 0.186979"/>
      <geometry>
        <mesh filename="package://ob1_arm_description/meshes/part_3.stl"/>
      </geometry>
      <material name="part_3_material">
        <color rgba="0.647059 0.647059 0.647059 1.0"/>
      </material>
    </collision>
    <visual>
      <origin rpy="-1.28833 1.27756 0.271006" xyz="-0.0951347 -0.073238 0.208485"/>
      <geometry>
        <mesh filename="package://ob1_arm_description/meshes/part_2.stl"/>
      </geometry>
      <material name="part_2_material">
        <color rgba="0.647059 0.647059 0.647059 1.0"/>
      </material>
    </visual>
    <collision>
      <origin rpy="-1.28833 1.27756 0.271006" xyz="-0.0951347 -0.073238 0.208485"/>
      <geometry>
        <mesh filename="package://ob1_arm_description/meshes/part_2.stl"/>
      </geometry>
      <material name="part_2_material">
        <color rgba="0.647059 0.647059 0.647059 1.0"/>
      </material>
    </collision>
    <visual>
      <origin rpy="-1.59935 0.963201 -0.0234431" xyz="-0.060658 0.0329427 0.133091"/>
      <geometry>
        <mesh filename="package://ob1_arm_description/meshes/part_2.stl"/>
      </geometry>
      <material name="part_2_material">
        <color rgba="0.647059 0.647059 0.647059 1.0"/>
      </material>
    </visual>
    <collision>
      <origin rpy="-1.59935 0.963201 -0.0234431" xyz="-0.060658 0.0329427 0.133091"/>
      <geometry>
        <mesh filename="package://ob1_arm_description/meshes/part_2.stl"/>
      </geometry>
      <material name="part_2_material">
        <color rgba="0.647059 0.647059 0.647059 1.0"/>
      </material>
    </collision>
    <visual>
      <origin rpy="-1.5708 -0.0114109 1.5708" xyz="0.0213326 -0.0336192 0.0680706"/>
      <geometry>
        <mesh filename="package://ob1_arm_description/meshes/hk15328d_v5.stl"/>
      </geometry>
      <material name="hk15328d_v5_material">
        <color rgba="0.952941 0.796078 0.486275 1.0"/>
      </material>
    </visual>
    <collision>
      <origin rpy="-1.5708 -0.0114109 1.5708" xyz="0.0213326 -0.0336192 0.0680706"/>
      <geometry>
        <mesh filename="package://ob1_arm_description/meshes/hk15328d_v5.stl"/>
      </geometry>
      <material name="hk15328d_v5_material">
        <color rgba="0.952941 0.796078 0.486275 1.0"/>
      </material>
    </collision>
    <visual>
      <origin rpy="3.14159 0.00035012 -1.5708" xyz="0.0086322 -0.01435 0.066"/>
      <geometry>
        <mesh filename="package://ob1_arm_description/meshes/535198.stl"/>
      </geometry>
      <material name="535198_material">
        <color rgba="0.498039 0.498039 0.498039 1.0"/>
      </material>
    </visual>
    <collision>
      <origin rpy="3.14159 0.00035012 -1.5708" xyz="0.0086322 -0.01435 0.066"/>
      <geometry>
        <mesh filename="package://ob1_arm_description/meshes/535198.stl"/>
      </geometry>
      <material name="535198_material">
        <color rgba="0.498039 0.498039 0.498039 1.0"/>
      </material>
    </collision>
    <visual>
      <origin rpy="-2.30045e-15 7.25258e-05 -1.5708" xyz="-0.0374924 0.01435 0.066"/>
      <geometry>
        <mesh filename="package://ob1_arm_description/meshes/part_1.stl"/>
      </geometry>
      <material name="part_1_material">
        <color rgba="0.956863 0.956863 0.956863 1.0"/>
      </material>
    </visual>
    <collision>
      <origin rpy="-2.30045e-15 7.25258e-05 -1.5708" xyz="-0.0374924 0.01435 0.066"/>
      <geometry>
        <mesh filename="package://ob1_arm_description/meshes/part_1.stl"/>
      </geometry>
      <material name="part_1_material">
        <color rgba="0.956863 0.956863 0.956863 1.0"/>
      </material>
    </collision>
    <visual>
      <origin rpy="3.14159 5.5759e-16 1.5708" xyz="-0.0276218 0.03835 0.066"/>
      <geometry>
        <mesh filename="package://ob1_arm_description/meshes/part_1.stl"/>
      </geometry>
      <material name="part_1_material">
        <color rgba="0.956863 0.956863 0.956863 1.0"/>
      </material>
    </visual>
    <collision>
      <origin rpy="3.14159 5.5759e-16 1.5708" xyz="-0.0276218 0.03835 0.066"/>
      <geometry>
        <mesh filename="package://ob1_arm_description/meshes/part_1.stl"/>
      </geometry>
      <material name="part_1_material">
        <color rgba="0.956863 0.956863 0.956863 1.0"/>
      </material>
    </collision>
    <visual>
      <origin rpy="-1.28833 1.27756 0.271006" xyz="-0.0951347 -0.073238 0.208485"/>
      <geometry>
        <mesh filename="package://ob1_arm_description/meshes/part_1.stl"/>
      </geometry>
      <material name="part_1_material">
        <color rgba="1 0 0 1.0"/>
      </material>
    </visual>
    <collision>
      <origin rpy="-1.28833 1.27756 0.271006" xyz="-0.0951347 -0.073238 0.208485"/>
      <geometry>
        <mesh filename="package://ob1_arm_description/meshes/part_1.stl"/>
      </geometry>
      <material name="part_1_material">
        <color rgba="1 0 0 1.0"/>
      </material>
    </collision>
    <visual>
      <origin rpy="-1.5708 1.08095 -3.14159" xyz="0.0805058 0.0105131 0.182183"/>
      <geometry>
        <mesh filename="package://ob1_arm_description/meshes/part_2.stl"/>
      </geometry>
      <material name="part_2_material">
        <color rgba="0.647059 0.647059 0.647059 1.0"/>
      </material>
    </visual>
    <collision>
      <origin rpy="-1.5708 1.08095 -3.14159" xyz="0.0805058 0.0105131 0.182183"/>
      <geometry>
        <mesh filename="package://ob1_arm_description/meshes/part_2.stl"/>
      </geometry>
      <material name="part_2_material">
        <color rgba="0.647059 0.647059 0.647059 1.0"/>
      </material>
    </collision>
    <visual>
      <origin rpy="7.88861e-31 -2.52435e-29 -7.21484e-28" xyz="3.38813e-21 0 0.108"/>
      <geometry>
        <mesh filename="package://ob1_arm_description/meshes/part_1.stl"/>
      </geometry>
      <material name="part_1_material">
        <color rgba="1 0.992157 0.992157 1.0"/>
      </material>
    </visual>
    <collision>
      <origin rpy="7.88861e-31 -2.52435e-29 -7.21484e-28" xyz="3.38813e-21 0 0.108"/>
      <geometry>
        <mesh filename="package://ob1_arm_description/meshes/part_1.stl"/>
      </geometry>
      <material name="part_1_material">
        <color rgba="1 0.992157 0.992157 1.0"/>
      </material>
    </collision>
    <visual>
      <origin rpy="1.01304e-28 0.0806543 -1.5708" xyz="-0.0191893 -0.0584346 0.0662393"/>
      <geometry>
        <mesh filename="package://ob1_arm_description/meshes/part_2.stl"/>
      </geometry>
      <material name="part_2_material">
        <color rgba="0.647059 0.647059 0.647059 1.0"/>
      </material>
    </visual>
    <collision>
      <origin rpy="1.01304e-28 0.0806543 -1.5708" xyz="-0.0191893 -0.0584346 0.0662393"/>
      <geometry>
        <mesh filename="package://ob1_arm_description/meshes/part_2.stl"/>
      </geometry>
      <material name="part_2_material">
        <color rgba="0.647059 0.647059 0.647059 1.0"/>
      </material>
    </collision>
    <visual>
      <origin rpy="1.0245e-13 -1.5545 1.5708" xyz="-0.0345543 0.0406607 0.085048"/>
      <geometry>
        <mesh filename="package://ob1_arm_description/meshes/hk15328d_v5.stl"/>
      </geometry>
      <material name="hk15328d_v5_material">
        <color rgba="0.952941 0.796078 0.486275 1.0"/>
      </material>
    </visual>
    <collision>
      <origin rpy="1.0245e-13 -1.5545 1.5708" xyz="-0.0345543 0.0406607 0.085048"/>
      <geometry>
        <mesh filename="package://ob1_arm_description/meshes/hk15328d_v5.stl"/>
      </geometry>
      <material name="hk15328d_v5_material">
        <color rgba="0.952941 0.796078 0.486275 1.0"/>
      </material>
    </collision>
    <visual>
      <origin rpy="-1.5708 1.08095 -3.14159" xyz="0.0805058 0.0105131 0.182183"/>
      <geometry>
        <mesh filename="package://ob1_arm_description/meshes/part_4.stl"/>
      </geometry>
      <material name="part_4_material">
        <color rgba="0.647059 0.647059 0.647059 1.0"/>
      </material>
    </visual>
    <collision>
      <origin rpy="-1.5708 1.08095 -3.14159" xyz="0.0805058 0.0105131 0.182183"/>
      <geometry>
        <mesh filename="package://ob1_arm_description/meshes/part_4.stl"/>
      </geometry>
      <material name="part_4_material">
        <color rgba="0.647059 0.647059 0.647059 1.0"/>
      </material>
    </collision>
    <visual>
      <origin rpy="-5.04871e-29 -2.05143e-15 1.5708" xyz="0.0086322 -0.03835 0.066"/>
      <geometry>
        <mesh filename="package://ob1_arm_description/meshes/535198.stl"/>
      </geometry>
      <material name="535198_material">
        <color rgba="0.498039 0.498039 0.498039 1.0"/>
      </material>
    </visual>
    <collision>
      <origin rpy="-5.04871e-29 -2.05143e-15 1.5708" xyz="0.0086322 -0.03835 0.066"/>
      <geometry>
        <mesh filename="package://ob1_arm_description/meshes/535198.stl"/>
      </geometry>
      <material name="535198_material">
        <color rgba="0.498039 0.498039 0.498039 1.0"/>
      </material>
    </collision>
    <visual>
      <origin rpy="-1.5708 0.989151 -3.14159" xyz="0.0988562 0.014795 0.216292"/>
      <geometry>
        <mesh filename="package://ob1_arm_description/meshes/part_2.stl"/>
      </geometry>
      <material name="part_2_material">
        <color rgba="0.647059 0.647059 0.647059 1.0"/>
      </material>
    </visual>
    <collision>
      <origin rpy="-1.5708 0.989151 -3.14159" xyz="0.0988562 0.014795 0.216292"/>
      <geometry>
        <mesh filename="package://ob1_arm_description/meshes/part_2.stl"/>
      </geometry>
      <material name="part_2_material">
        <color rgba="0.647059 0.647059 0.647059 1.0"/>
      </material>
    </collision>
    <visual>
      <origin rpy="-1.62774 1.28037 -0.0545632" xyz="-0.0654451 0.0383085 0.186979"/>
      <geometry>
        <mesh filename="package://ob1_arm_description/meshes/part_1.stl"/>
      </geometry>
      <material name="part_1_material">
        <color rgba="1 0 0 1.0"/>
      </material>
    </visual>
    <collision>
      <origin rpy="-1.62774 1.28037 -0.0545632" xyz="-0.0654451 0.0383085 0.186979"/>
      <geometry>
        <mesh filename="package://ob1_arm_description/meshes/part_1.stl"/>
      </geometry>
      <material name="part_1_material">
        <color rgba="1 0 0 1.0"/>
      </material>
    </collision>
    <visual>
      <origin rpy="-3.14159 0.0235056 1.5708" xyz="-0.0652464 0.01435 0.066"/>
      <geometry>
        <mesh filename="package://ob1_arm_description/meshes/535198.stl"/>
      </geometry>
      <material name="535198_material">
        <color rgba="0.498039 0.498039 0.498039 1.0"/>
      </material>
    </visual>
    <collision>
      <origin rpy="-3.14159 0.0235056 1.5708" xyz="-0.0652464 0.01435 0.066"/>
      <geometry>
        <mesh filename="package://ob1_arm_description/meshes/535198.stl"/>
      </geometry>
      <material name="535198_material">
        <color rgba="0.498039 0.498039 0.498039 1.0"/>
      </material>
    </collision>
    <visual>
      <origin rpy="1.01304e-28 0.0806543 -1.5708" xyz="-0.0191893 -0.0584346 0.0662393"/>
      <geometry>
        <mesh filename="package://ob1_arm_description/meshes/part_1.stl"/>
      </geometry>
      <material name="part_1_material">
        <color rgba="1 0 0 1.0"/>
      </material>
    </visual>
    <collision>
      <origin rpy="1.01304e-28 0.0806543 -1.5708" xyz="-0.0191893 -0.0584346 0.0662393"/>
      <geometry>
        <mesh filename="package://ob1_arm_description/meshes/part_1.stl"/>
      </geometry>
      <material name="part_1_material">
        <color rgba="1 0 0 1.0"/>
      </material>
    </collision>
    <visual>
      <origin rpy="3.14159 -1.59468e-27 1.5708" xyz="-0.085 0.03835 0.066"/>
      <geometry>
        <mesh filename="package://ob1_arm_description/meshes/part_1.stl"/>
      </geometry>
      <material name="part_1_material">
        <color rgba="0.615686 0.811765 0.929412 1.0"/>
      </material>
    </visual>
    <collision>
      <origin rpy="3.14159 -1.59468e-27 1.5708" xyz="-0.085 0.03835 0.066"/>
      <geometry>
        <mesh filename="package://ob1_arm_description/meshes/part_1.stl"/>
      </geometry>
      <material name="part_1_material">
        <color rgba="0.615686 0.811765 0.929412 1.0"/>
      </material>
    </collision>
    <visual>
      <origin rpy="-1.5708 -1.57014 1.5708" xyz="0.0194201 -0.0336192 0.0680706"/>
      <geometry>
        <mesh filename="package://ob1_arm_description/meshes/part_1.stl"/>
      </geometry>
      <material name="part_1_material">
        <color rgba="0.615686 0.811765 0.929412 1.0"/>
      </material>
    </visual>
    <collision>
      <origin rpy="-1.5708 -1.57014 1.5708" xyz="0.0194201 -0.0336192 0.0680706"/>
      <geometry>
        <mesh filename="package://ob1_arm_description/meshes/part_1.stl"/>
      </geometry>
      <material name="part_1_material">
        <color rgba="0.615686 0.811765 0.929412 1.0"/>
      </material>
    </collision>
    <visual>
      <origin rpy="-1.5708 1.08095 -3.14159" xyz="0.0805058 0.0105131 0.182183"/>
      <geometry>
        <mesh filename="package://ob1_arm_description/meshes/part_1.stl"/>
      </geometry>
      <material name="part_1_material">
        <color rgba="1 0 0 1.0"/>
      </material>
    </visual>
    <collision>
      <origin rpy="-1.5708 1.08095 -3.14159" xyz="0.0805058 0.0105131 0.182183"/>
      <geometry>
        <mesh filename="package://ob1_arm_description/meshes/part_1.stl"/>
      </geometry>
      <material name="part_1_material">
        <color rgba="1 0 0 1.0"/>
      </material>
    </collision>
    <inertial>
      <origin rpy="0 0 0" xyz="0 0 0"/>
      <mass value="0"/>
      <inertia ixx="0" ixy="0" ixz="0" iyy="0" iyz="0" izz="0"/>
    </inertial>
  </link>
  <joint name="wrist" type="revolute">
    <origin rpy="1.5708 1.07206e-15 3.90313e-18" xyz="2.87351e-16 -0.155 0.08285"/>
    <parent link="forearm_link"/>
    <child link="main_assembly"/>
    <axis xyz="0 0 1"/>
    <limit effort="1" lower="-3.14" upper="3.14" velocity="20"/>
    <joint_properties friction="0.0"/>
  </joint>
  <joint name="elbow_forearm_joint" type="revolute">
    <origin rpy="1.5708 3.24767e-15 -2.19963e-15" xyz="-5.86137e-16 0.08285 -0.03115"/>
    <parent link="elbow_link"/>
    <child link="forearm_link"/>
    <axis xyz="0 0 1"/>
    <limit effort="1" lower="-3.14" upper="3.14" velocity="20"/>
    <joint_properties friction="0.0"/>
  </joint>
  <joint name="arm_elbow_joint" type="revolute">
    <origin rpy="1.5708 0.0295346 -7.29078e-16" xyz="-8.00419e-16 0.18 0.0475"/>
    <parent link="arm_link"/>
    <child link="elbow_link"/>
    <axis xyz="0 0 1"/>
    <limit effort="1" lower="-3.14" upper="3.14" velocity="20"/>
    <joint_properties friction="0.0"/>
  </joint>
  <joint name="shoulder_arm_joint" type="revolute">
    <origin rpy="-1.21458e-15 -8.20286e-15 -1.5708" xyz="0.15 -8.58807e-16 7.63278e-17"/>
    <parent link="shoulder_link"/>
    <child link="arm_link"/>
    <axis xyz="0 0 1"/>
    <limit effort="1" lower="-3.14" upper="3.14" velocity="20"/>
    <joint_properties friction="0.0"/>
  </joint>
  <joint name="base_shoulder_joint" type="revolute">
    <origin rpy="1.5708 -1.5708 0" xyz="9.08868e-17 0.0465 0.06"/>
    <parent link="arm1_base_link"/>
    <child link="shoulder_link"/>
    <axis xyz="0 0 1"/>
    <limit effort="1" lower="-3.14" upper="3.14" velocity="20"/>
    <joint_properties friction="0.0"/>
  </joint>
  <link name="base_link">
    <visual>
      <origin rpy="0 0 0" xyz="0 0 0.85"/>
      <geometry>
        <box size="0.5 0.5 1.7"/>
      </geometry>
    </visual>
    <collision>
      <origin rpy="0 0 0" xyz="0 0 0.4"/>
      <geometry>
        <box size="0.5 0.5 1.7"/>
      </geometry>
    </collision>
  </link>
  <joint name="base_link_base_joint" type="continuous">
    <origin rpy="-1.5707963267948966 0 0" xyz="0 0.25 1.1333333333333333"/>
    <axis xyz="0 0 1"/>
    <!-- <limit effort="1000.0" lower="${radians(-180)}" upper="${radians(180)}" velocity="0.5"/> -->
    <parent link="base_link"/>
    <child link="arm1_base_link"/>
    <!-- <dynamics D="1" K="7000" mu_coulomb="0" mu_viscous="16" damping="0.003" friction="0.0"/> -->
  </joint>
  <!-- <joint name="base_to_right_wheel" type="continuous">
            <parent link="base_link"/>
            <child link="${arm_name}_base_link"/>
            <origin xyz="0.35 0.35 -0.9"/>
        </joint> -->
  <link name="right_wheel">
    <visual>
      <geometry>
        <cylinder length="0.1" radius="0.3"/>
      </geometry>
      <origin rpy="0 1.5707963267948966 0" xyz="0.05 0 0"/>
    </visual>
  </link>
  <joint name="base_to_right_wheel" type="continuous">
    <parent link="base_link"/>
    <child link="right_wheel"/>
    <origin xyz="0.25 0 0.10"/>
  </joint>
  <link name="left_wheel">
    <visual>
      <geometry>
        <cylinder length="0.1" radius="0.3"/>
      </geometry>
      <origin rpy="0 1.5707963267948966 0" xyz="-0.05 0 0"/>
    </visual>
  </link>
  <joint name="base_to_left_wheel" type="continuous">
    <parent link="base_link"/>
    <child link="left_wheel"/>
    <origin xyz="-0.25 0 0.10"/>
  </joint>
  <link name="camera_link">
    <visual>
      <origin rpy="0.7853981633974483 0 0" xyz="0 0 0"/>
      <geometry>
        <box size="0.1 0.1 0.1"/>
      </geometry>
    </visual>
  </link>
  <joint name="base_link_camera_link_joint" type="fixed">
    <origin rpy="0 0 0" xyz="0 0.25 1.8"/>
    <parent link="base_link"/>
    <child link="camera_link"/>
  </joint>
  <gazebo>
    <plugin filename="libgazebo_ros_control.so" name="gazebo_ros_control"/>
  </gazebo>
  <!-- camera description adapted from http://gazebosim.org/tutorials?tut=ros_gzplugins#Pluginsavailableingazebo_plugins -->
  <gazebo reference="$camera_link">
    <sensor name="depth_camera" type="depth">
      <update_rate>20</update_rate>
      <camera>
        <horizontal_fov>1.047198</horizontal_fov>
        <image>
          <width>640</width>
          <height>480</height>
          <format>R8G8B8</format>
        </image>
        <clip>
          <near>0.05</near>
          <far>3</far>
        </clip>
      </camera>
      <plugin filename="libgazebo_ros_openni_kinect.so" name="$kinetic_camera_controller">
        <baseline>0.2</baseline>
        <alwaysOn>true</alwaysOn>
        <updateRate>1.0</updateRate>
        <cameraName>placeholder_camera_ir</cameraName>
        <imageTopicName>/placeholder_camera/color/image_raw</imageTopicName>
        <cameraInfoTopicName>/placeholder_camera/color/camera_info</cameraInfoTopicName>
        <depthImageTopicName>/placeholder_camera/depth/image_raw</depthImageTopicName>
        <depthImageInfoTopicName>/placeholder_camera/depth/camera_info</depthImageInfoTopicName>
        <pointCloudTopicName>/placeholder_camera/depth/points</pointCloudTopicName>
        <frameName>placeholder_camera_link</frameName>
        <pointCloudCutoff>0.5</pointCloudCutoff>
        <pointCloudCutoffMax>3.0</pointCloudCutoffMax>
        <distortionK1>0.00000001</distortionK1>
        <distortionK2>0.00000001</distortionK2>
        <distortionK3>0.00000001</distortionK3>
        <distortionT1>0.00000001</distortionT1>
        <distortionT2>0.00000001</distortionT2>
        <CxPrime>0</CxPrime>
        <Cx>0</Cx>
        <Cy>0</Cy>
        <focalLength>0</focalLength>
        <hackBaseline>0</hackBaseline>
      </plugin>
    </sensor>
  </gazebo>
</robot>
